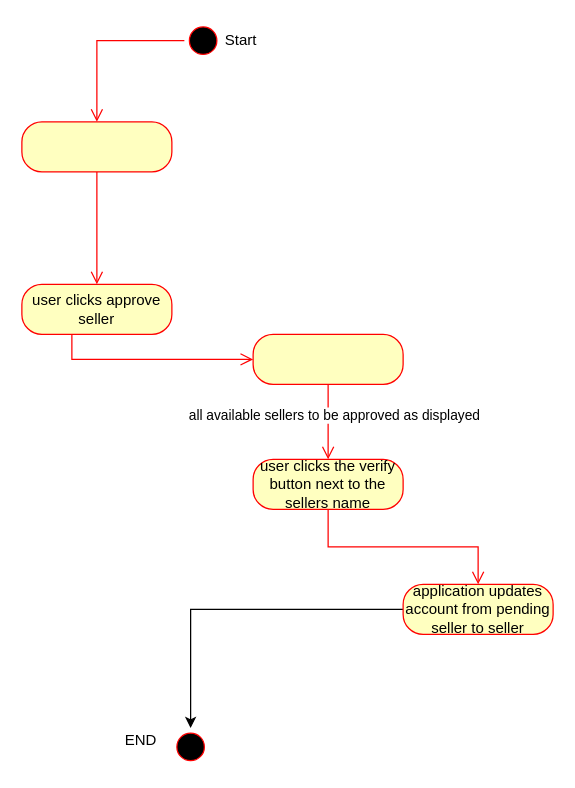
This 575x788 diagram has some shape labels left out. Here are the shapes that lost their labels. From the top down, the box of each, then its label:
(21, 121, 172, 172): Admin dashoard is open (3.3.3)
(252, 333, 403, 384): approve seller page is loaded
